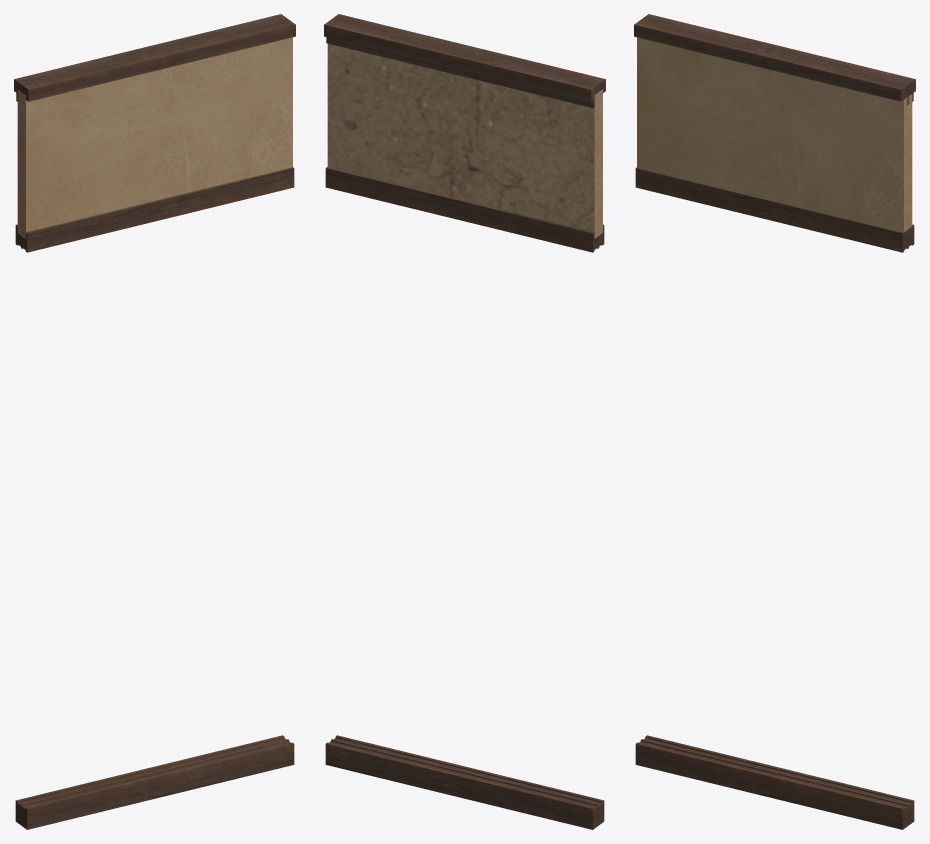
The model's file is jov_outwall02_0t_to_e1.fbx.
3 views of the same model, side by side, from view 1: azimuth 30°, elevation 25°; view 2: azimuth 150°, elevation 25°; view 3: azimuth 330°, elevation 25° (orthographic).
Parts seen in each view (by area): view 1: jov_outwall02_0t_to_e1; view 2: jov_outwall02_0t_to_e1; view 3: jov_outwall02_0t_to_e1.
Part boxes in pixels (x1,y1,x2,y2): jov_outwall02_0t_to_e1: [14, 14, 295, 829]; jov_outwall02_0t_to_e1: [324, 14, 605, 829]; jov_outwall02_0t_to_e1: [634, 14, 915, 829].
Size of the model in its own units: 110 by 292 by 10.4.
